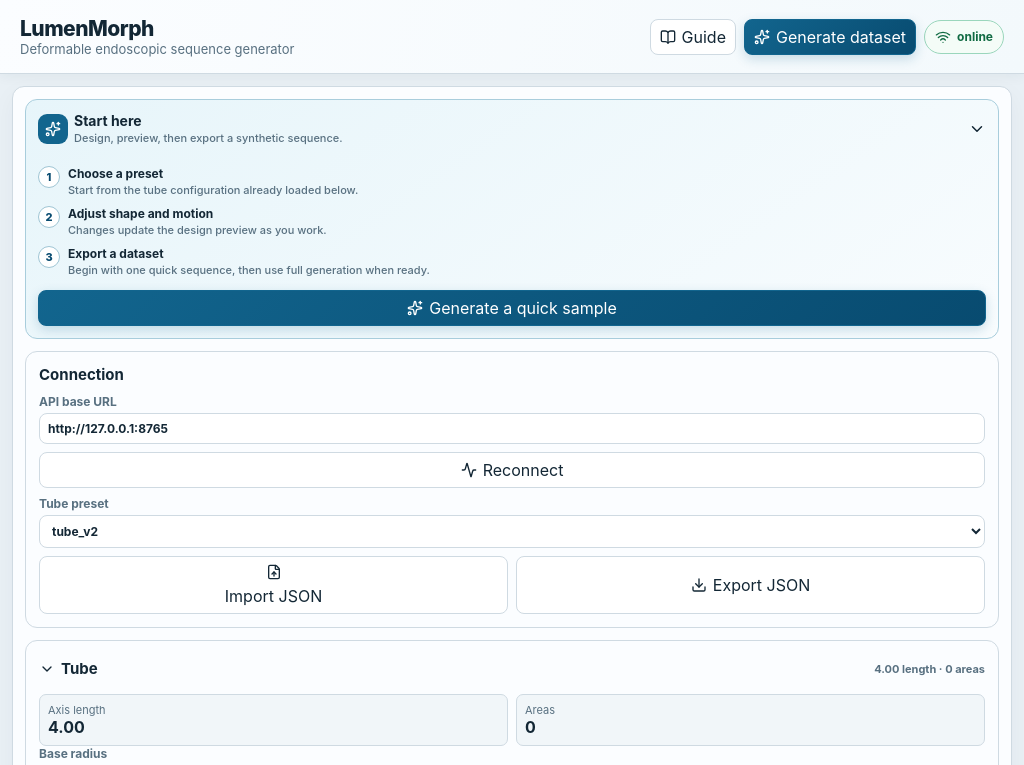
Scenario: App › starts generation and polls the job to completion
This screenshot has width=1024, height=765.
Expected: the heading "LumenMorph" is shown, [20,16,154,41]
What coordinates should you click on to do the following:
click the button "Generate dataset"
I would click on:
 (830, 36)
Its box is [744,18,916,54].
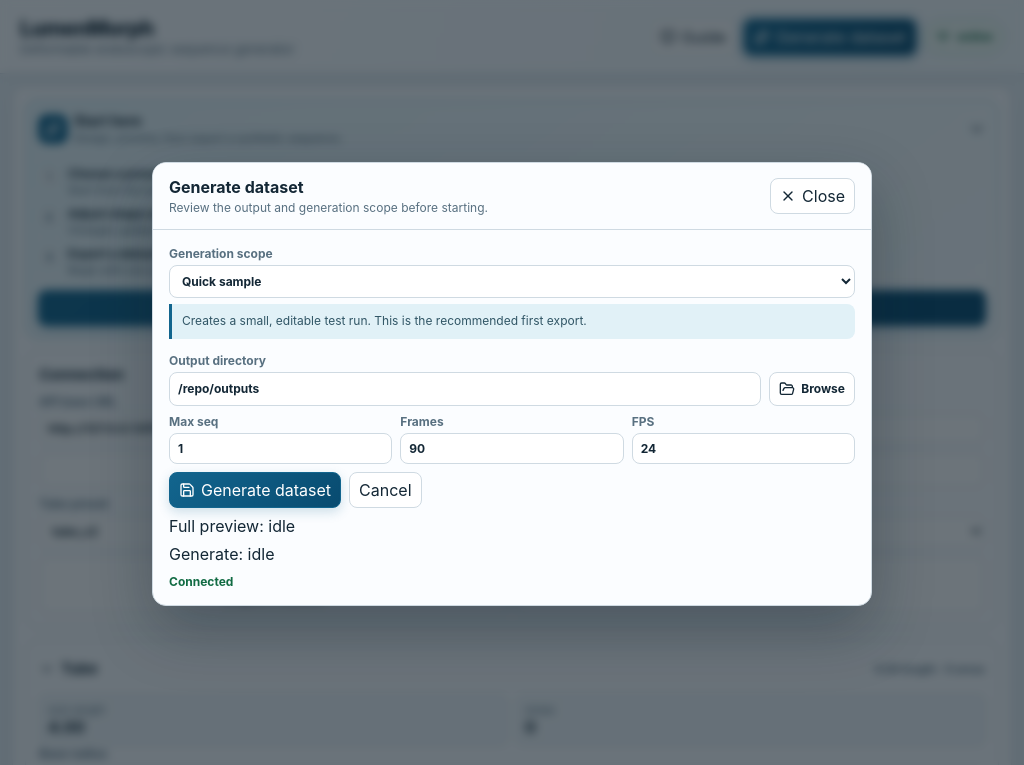
Expected: the dialog "Generate dataset" is shown, [152,162,872,606]
Expected: the field labelled "Output directory" holds "/repo/outputs", [169,372,761,406]
Expected: the number field labelled "Frames" holds "90", [400,433,624,464]
What coordinates should you click on to do the following:
click the button "Generate dataset"
I would click on:
 (255, 490)
Its box is [169,472,341,508].
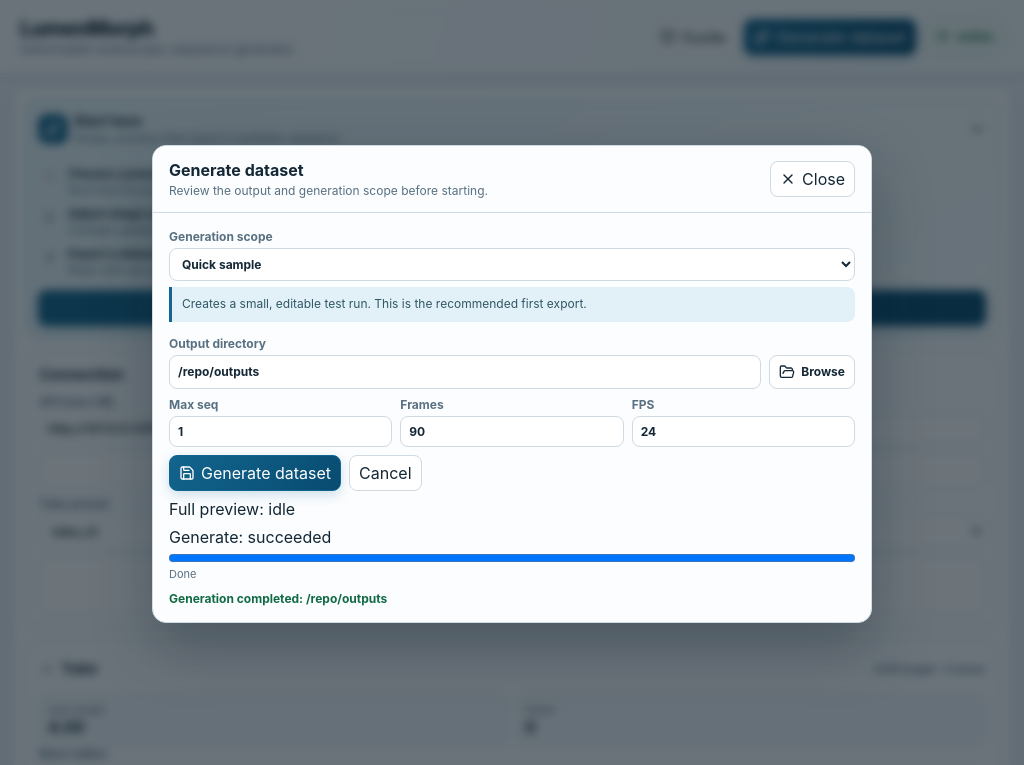
Expected: the text "Generation completed: /repo/outputs" is shown, [169,591,387,606]
